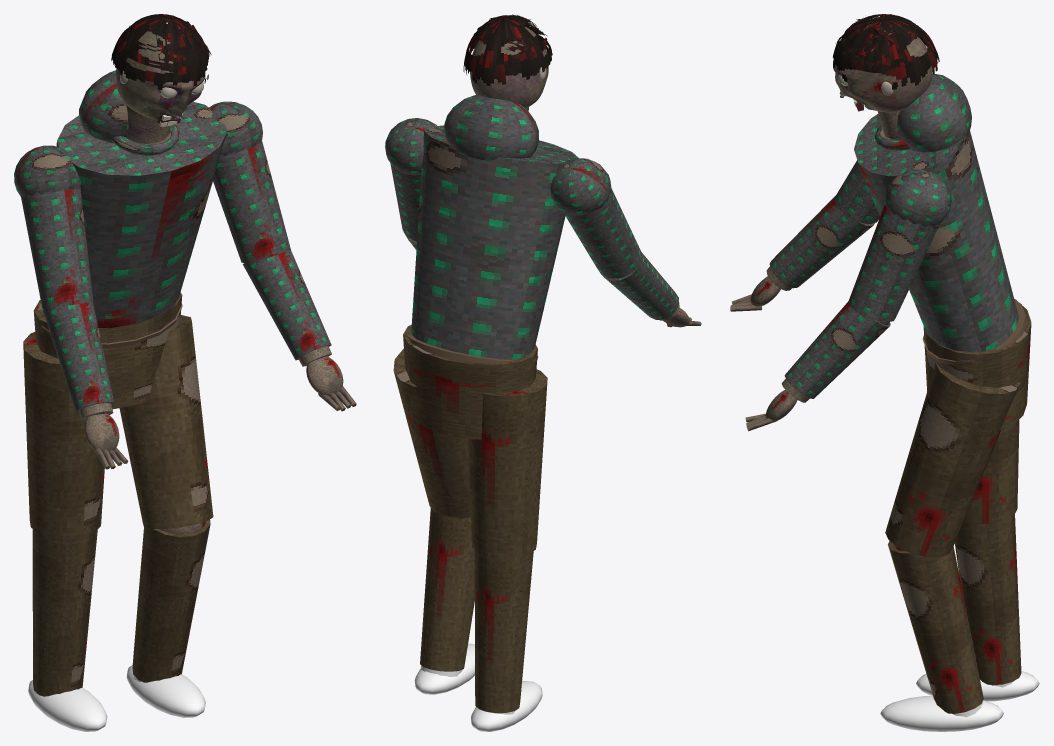
File: Zombie_100.glb
The picture shows the model from 3 angles, left to right: view 1: azimuth 30°, elevation 25°; view 2: azimuth 150°, elevation 25°; view 3: azimuth 270°, elevation 25°; orthographic projection. The views are drawn at different scales.
Visible parts, largest first — view 1: Zombie_100, object 4, object 12, object 44, object 18, object 13, object 5, object 43; view 2: Zombie_100, object 44, object 4, object 18, object 43; view 3: Zombie_100, object 12, object 44, object 4, object 18, object 13, object 43, object 5.
Part boxes in pixels (left/top/right/bottom): Zombie_100: left=14, top=70, right=290, bottom=731; object 4: left=43, top=302, right=114, bottom=413; object 12: left=243, top=249, right=331, bottom=360; object 44: left=111, top=14, right=209, bottom=86; object 18: left=116, top=27, right=205, bottom=122; object 13: left=306, top=356, right=343, bottom=396; object 5: left=84, top=413, right=119, bottom=451; object 43: left=113, top=20, right=206, bottom=90; Zombie_100: left=385, top=95, right=641, bottom=731; object 44: left=463, top=15, right=552, bottom=83; object 4: left=602, top=252, right=679, bottom=319; object 18: left=470, top=27, right=548, bottom=107; object 43: left=466, top=19, right=550, bottom=85; Zombie_100: left=834, top=73, right=1039, bottom=731; object 12: left=784, top=301, right=890, bottom=398; object 44: left=833, top=14, right=939, bottom=87; object 4: left=769, top=195, right=874, bottom=288; object 18: left=833, top=24, right=932, bottom=112; object 13: left=765, top=390, right=797, bottom=420; object 43: left=836, top=18, right=934, bottom=89; object 5: left=750, top=276, right=780, bottom=306.
Bounding box in the file's own units: 0.6326 × 1.67 × 0.6649.
Materials: 16 (6 with a texture image).
